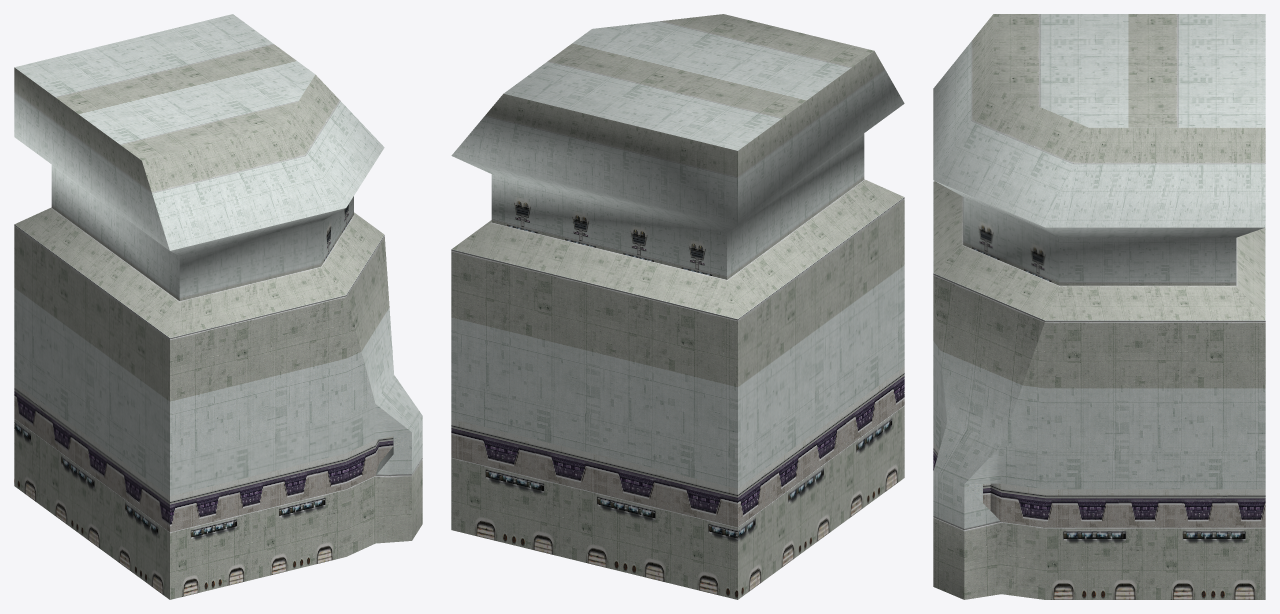
The model's file is bes2_bldg_hospital.glb.
The picture shows the model from 3 angles, left to right: view 1: azimuth 30°, elevation 25°; view 2: azimuth 150°, elevation 25°; view 3: azimuth 270°, elevation 25°; orthographic projection. The views are drawn at different scales.
Parts seen in each view (by area): view 1: mesh_part3, mesh_part2, mesh_part1; view 2: mesh_part3, mesh_part2, mesh_part1; view 3: mesh_part3, mesh_part2, mesh_part1.
Boxes of the visible parts, x1,y1,x2,y2 form: mesh_part3: [14, 14, 422, 556]; mesh_part2: [14, 196, 353, 599]; mesh_part1: [14, 382, 393, 531]; mesh_part3: [451, 14, 904, 488]; mesh_part2: [451, 174, 904, 599]; mesh_part1: [451, 367, 904, 527]; mesh_part3: [933, 14, 1265, 599]; mesh_part2: [963, 197, 1265, 599]; mesh_part1: [933, 442, 1265, 527].
Size of the model in its own units: 8.01 by 12 by 8.08.
3 materials, 3 textured.
